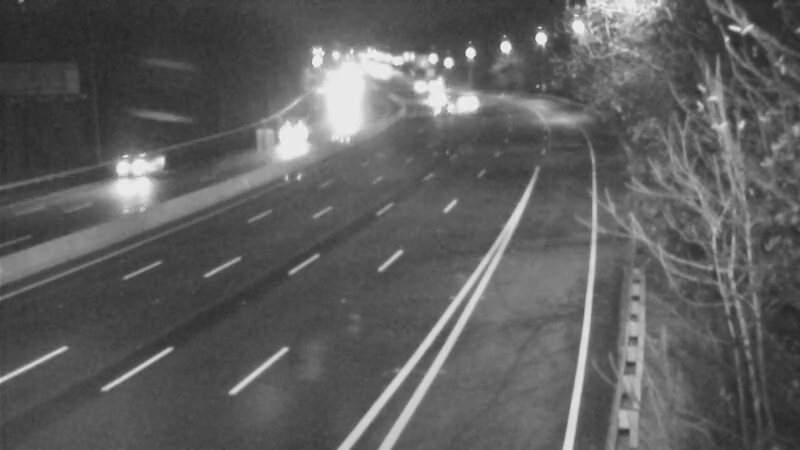vehicle: (104, 124, 184, 204), (406, 75, 456, 125), (441, 78, 491, 128), (416, 82, 466, 132), (272, 110, 322, 160)
